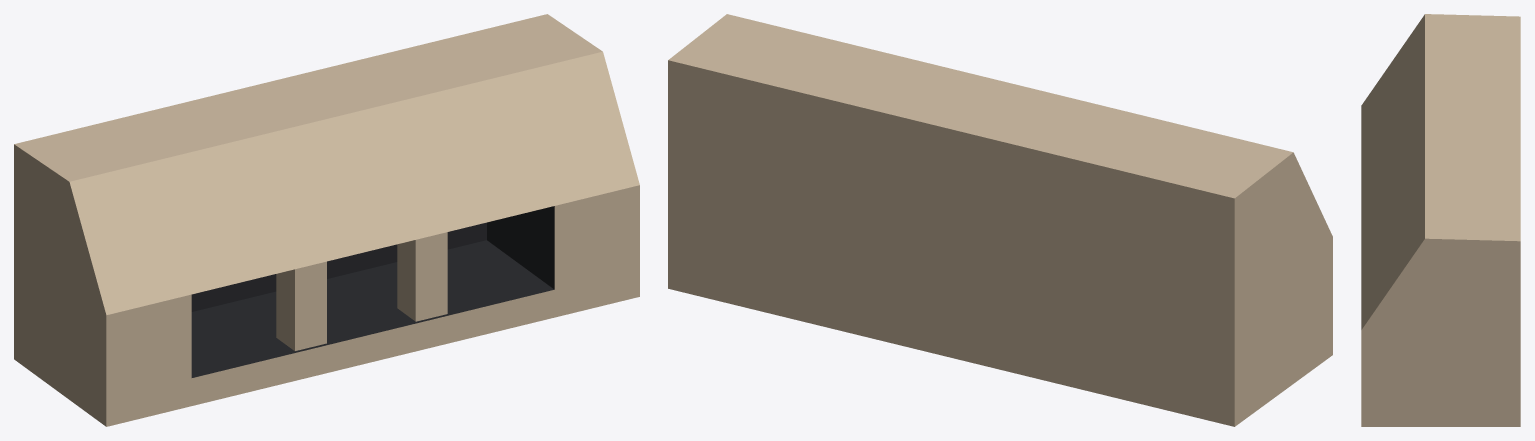
Rendered from SM_Ground_Curb_Drain_01.fbx.
3 views of the same model, side by side, from view 1: azimuth 30°, elevation 25°; view 2: azimuth 150°, elevation 25°; view 3: azimuth 270°, elevation 25° (orthographic). The views are drawn at different scales.
Parts seen in each view (by area): view 1: SM_Ground_Curb_Drain_01; view 2: SM_Ground_Curb_Drain_01; view 3: SM_Ground_Curb_Drain_01.
Part boxes in pixels (x1=…): SM_Ground_Curb_Drain_01: x1=14, y1=14, x2=639, y2=426; SM_Ground_Curb_Drain_01: x1=668, y1=14, x2=1332, y2=426; SM_Ground_Curb_Drain_01: x1=1361, y1=14, x2=1520, y2=426.
Size of the model in its own units: 0.5 by 0.1953 by 0.15.
1 material, 1 textured.
